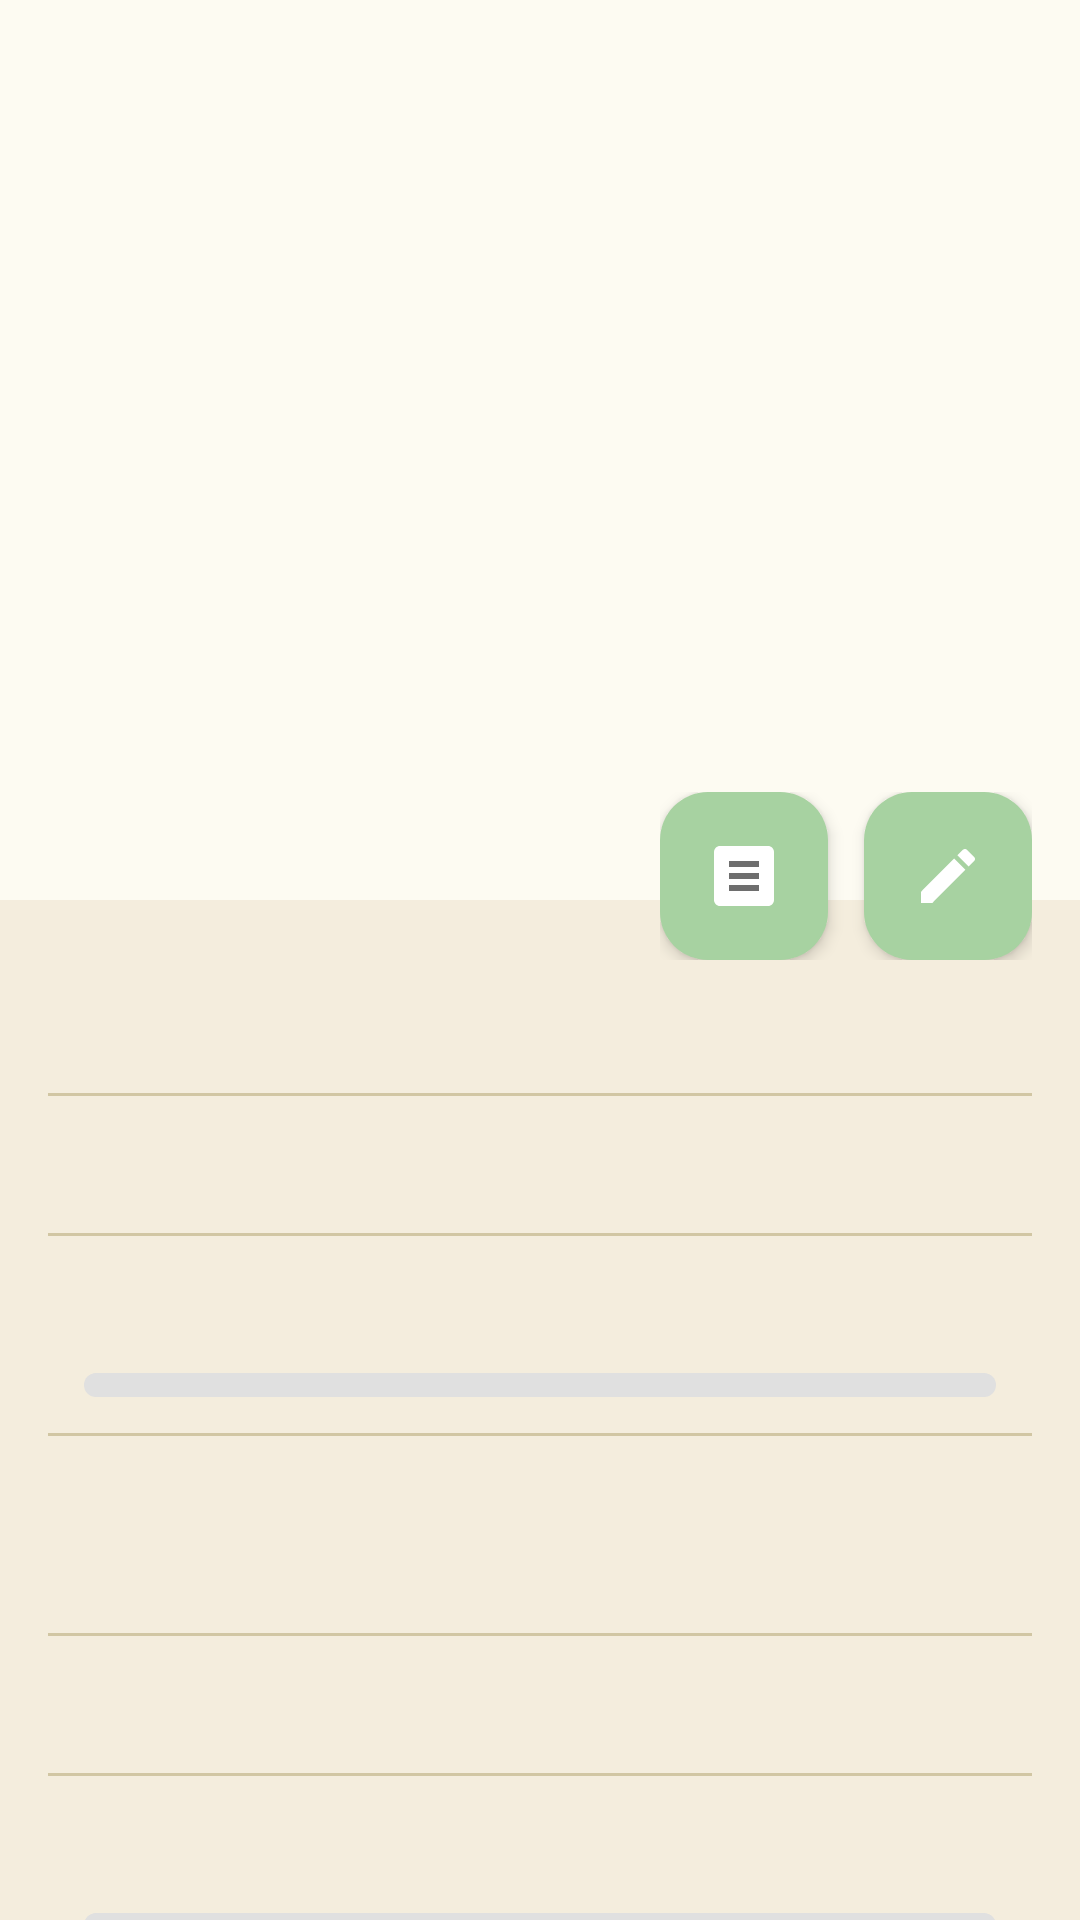

Where to tap for icons on this 1080×1920 app screen, as (x=x, y=y):
diary: (x=744, y=876)
edit: (x=948, y=876)
